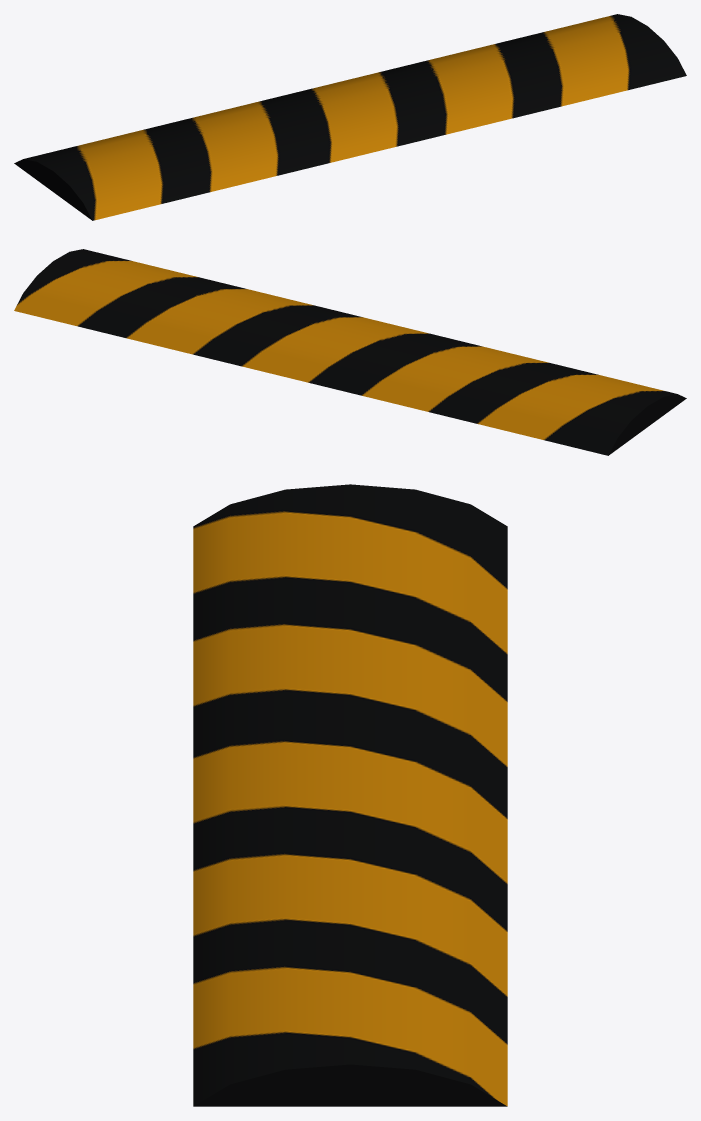
Rendered from speed bump.FBX.
3 views of the same model, one above another, from view 1: azimuth 30°, elevation 25°; view 2: azimuth 150°, elevation 25°; view 3: azimuth 270°, elevation 25° (orthographic). The views are drawn at different scales.
Visible parts, largest first — view 1: speed_bump; view 2: speed_bump; view 3: speed_bump.
Part boxes in pixels (left/top/right/bottom): speed_bump: left=14, top=14, right=686, bottom=220; speed_bump: left=14, top=249, right=686, bottom=455; speed_bump: left=193, top=484, right=507, bottom=1106.
Bounding box in the file's own units: 1.61 × 0.0546 × 0.3696.
